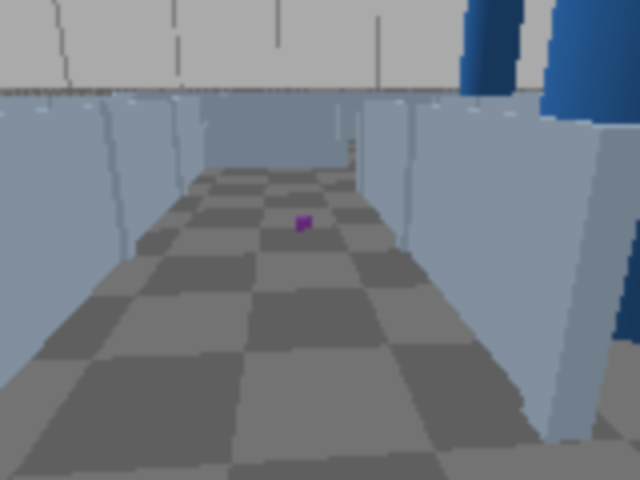person: (526, 0, 638, 347)
